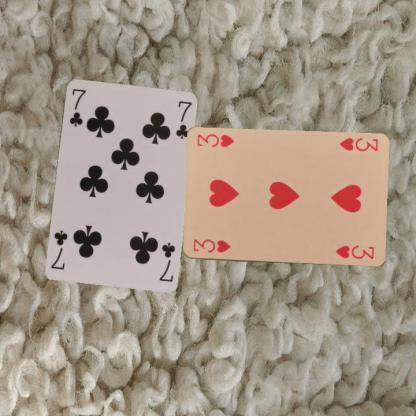3h: (190, 236, 232, 254), (337, 135, 379, 153)
7c: (66, 86, 88, 127), (156, 239, 176, 283)
